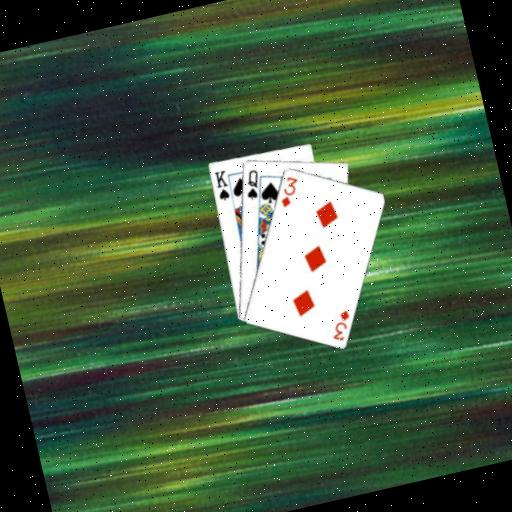3D: (272, 172, 304, 210), (324, 307, 356, 345)
KS: (210, 166, 233, 204)
QS: (238, 165, 264, 202)
